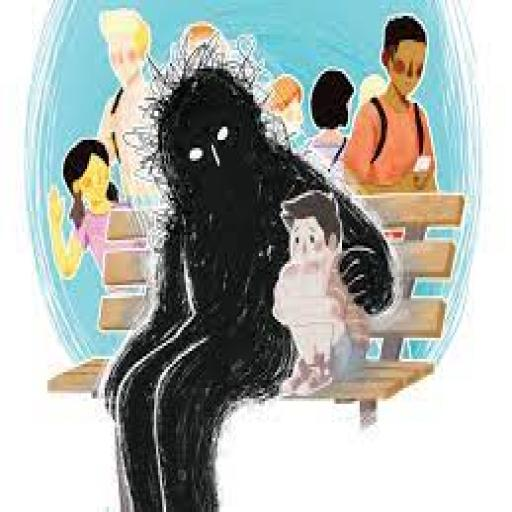person: (268, 183, 374, 404), (341, 12, 455, 200), (43, 136, 138, 281), (95, 0, 174, 140), (305, 59, 356, 184)
